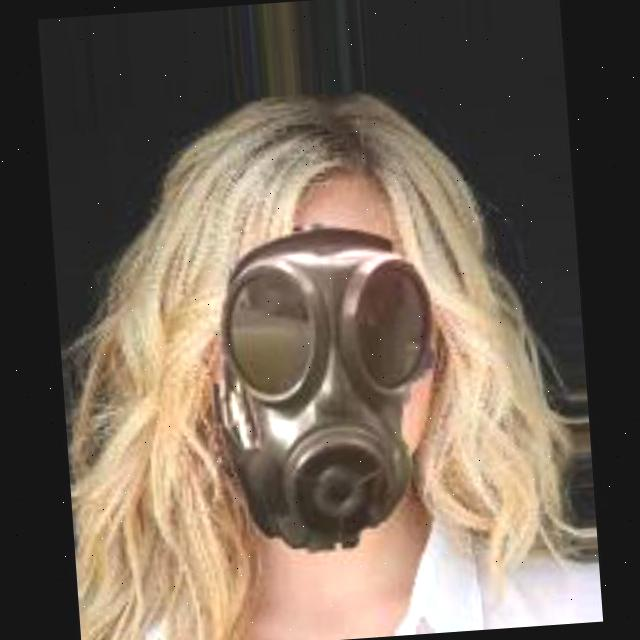suspicion: (126, 101, 522, 572)
